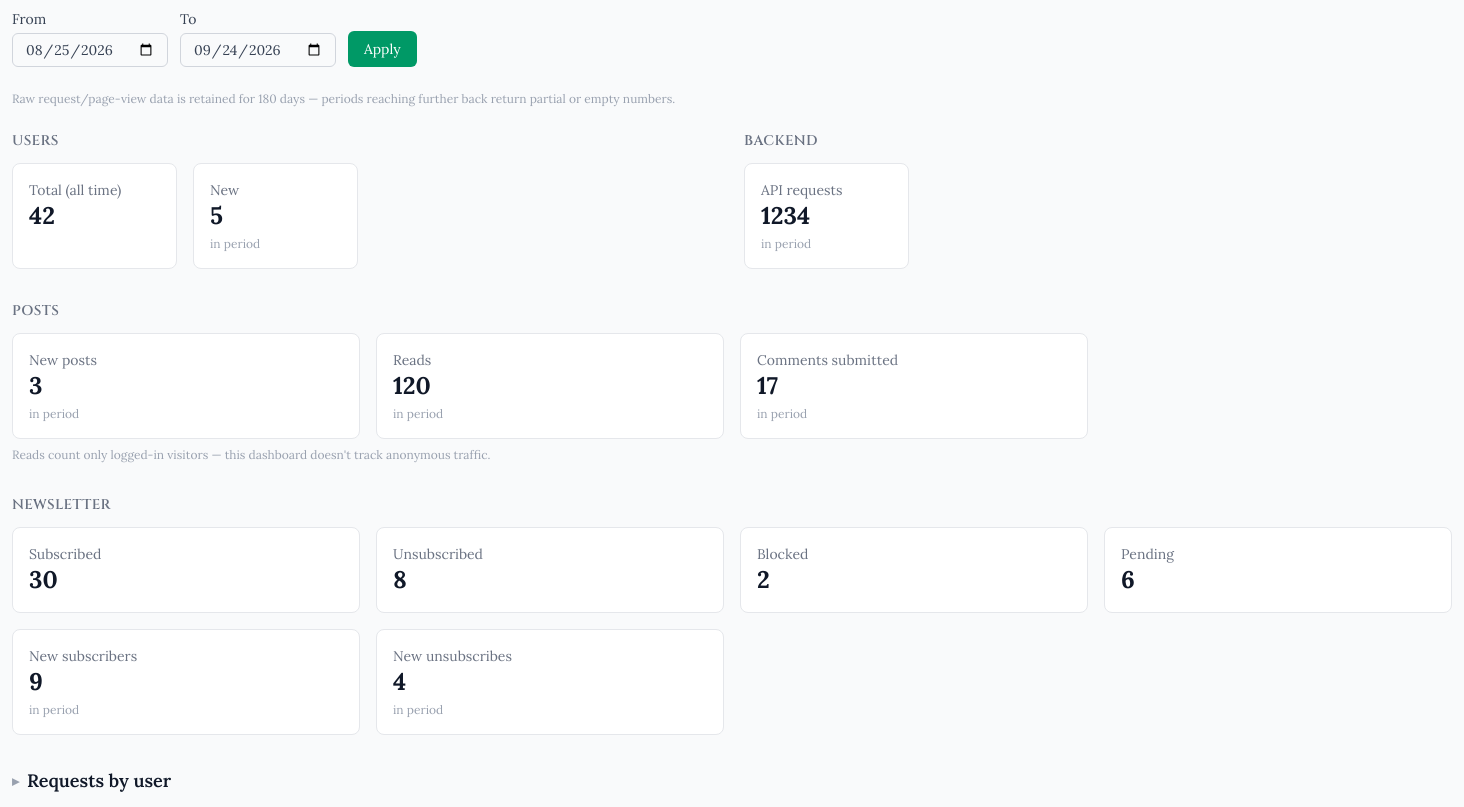
Test: AnalyticsPage › searches by name/email, resetting to the first page
(page scrolled)
Check: the text "42" is shown, box top-left (29, 200), bottom-right (55, 231)
Step 1. Click the button "▸ Requests by user" → x=92, y=781, box top-left (12, 767), bottom-right (171, 795)
(page scrolled)
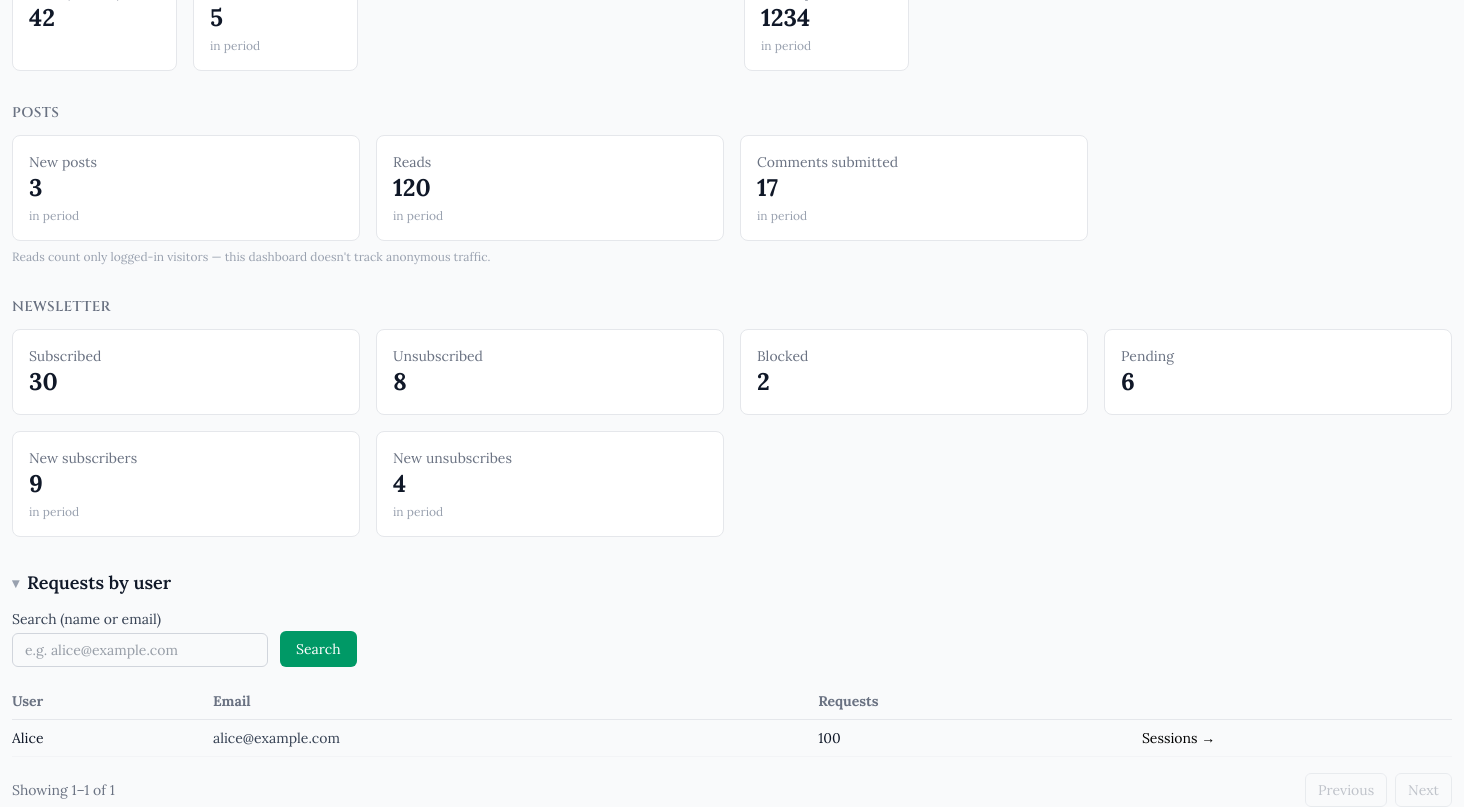
Check: the text "Alice" is shown, box top-left (12, 720), bottom-right (213, 756)
Step 2. Type "carol" into the field with placeholder "e.g. alice@example.com" → x=140, y=650, box top-left (12, 633), bottom-right (268, 667)
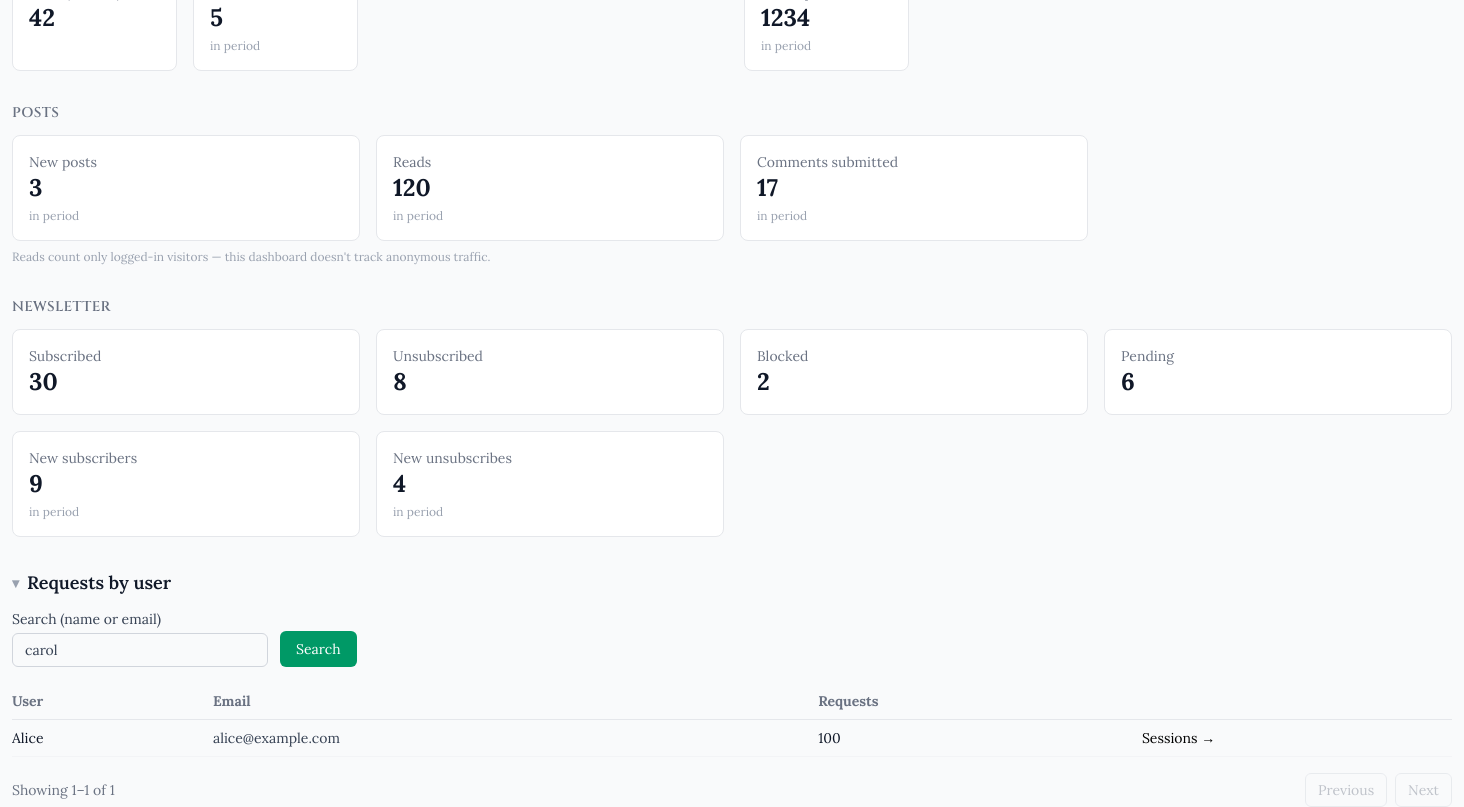
Step 3. Click the button "Search" → x=318, y=649, box top-left (280, 631), bottom-right (356, 667)
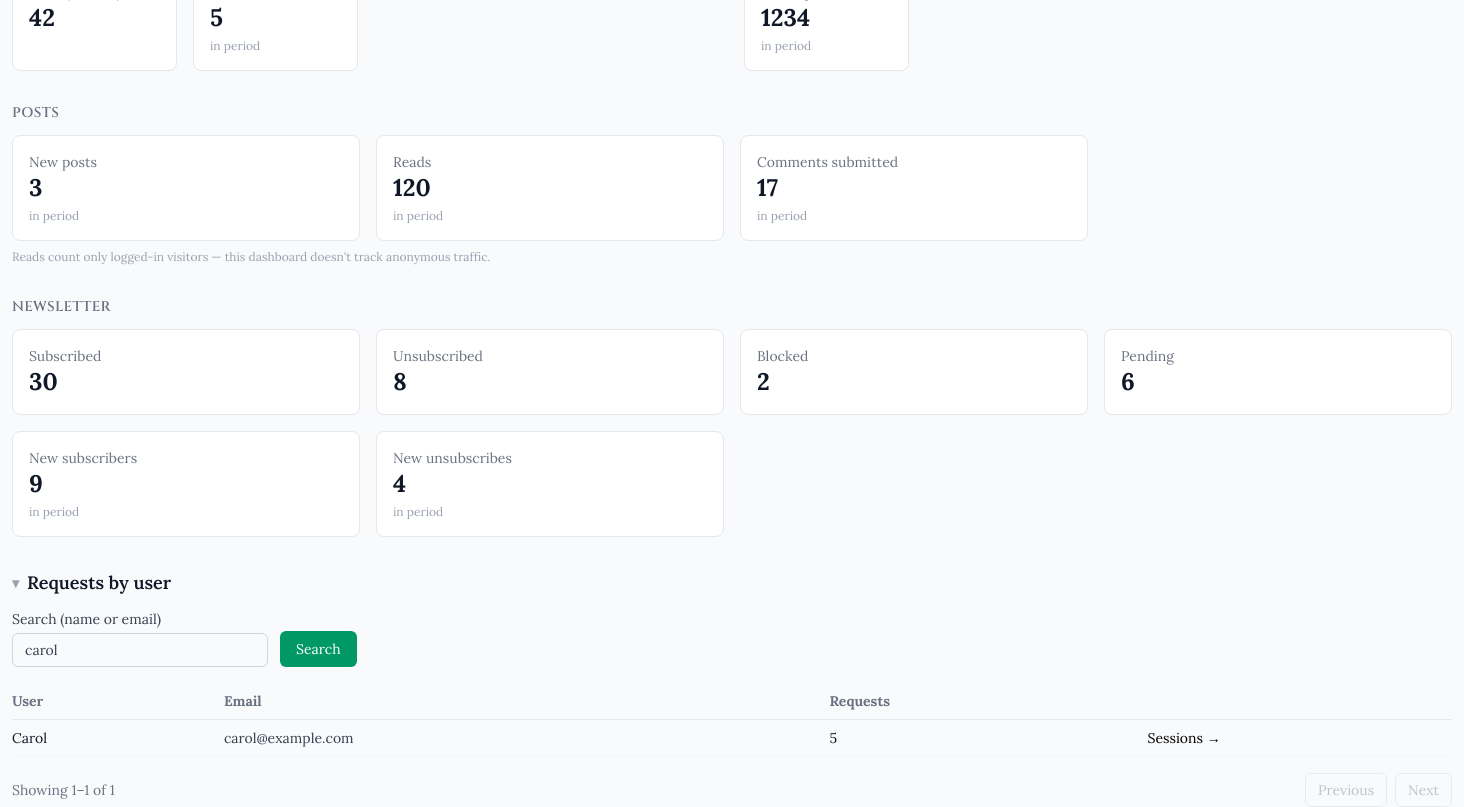
Check: the text "Carol" is shown, box top-left (12, 720), bottom-right (224, 756)
